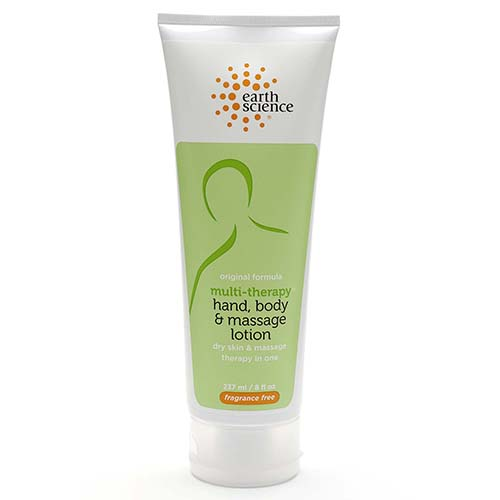Nonrec_Plastic: (117, 13, 370, 493)
